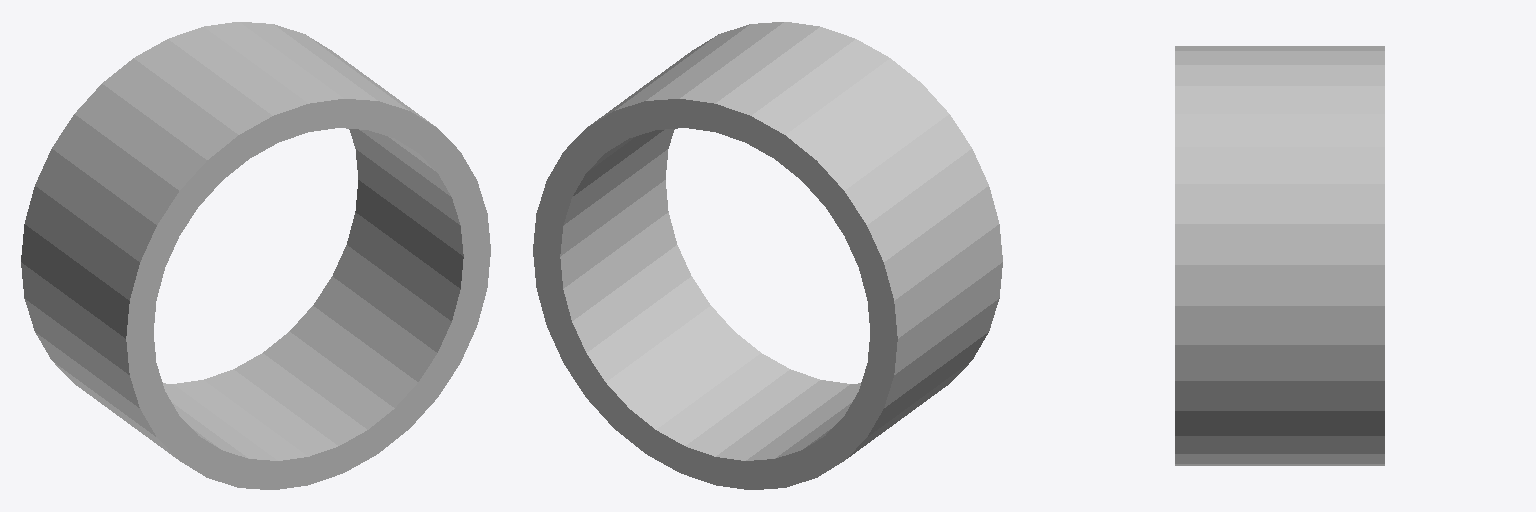
The model's file is millhole.obj.
The picture shows the model from 3 angles: view 1: azimuth 30°, elevation 25°; view 2: azimuth 150°, elevation 25°; view 3: azimuth 270°, elevation 25°; orthographic projection.
Parts seen in each view (by area): view 1: Tube3; view 2: Tube3; view 3: Tube3.
Boxes of the visible parts, x1,y1,x2,y2 form: Tube3: [21, 22, 490, 489]; Tube3: [533, 22, 1002, 489]; Tube3: [1175, 46, 1384, 465].
Bounding box in the file's own units: 2 × 2 × 1.